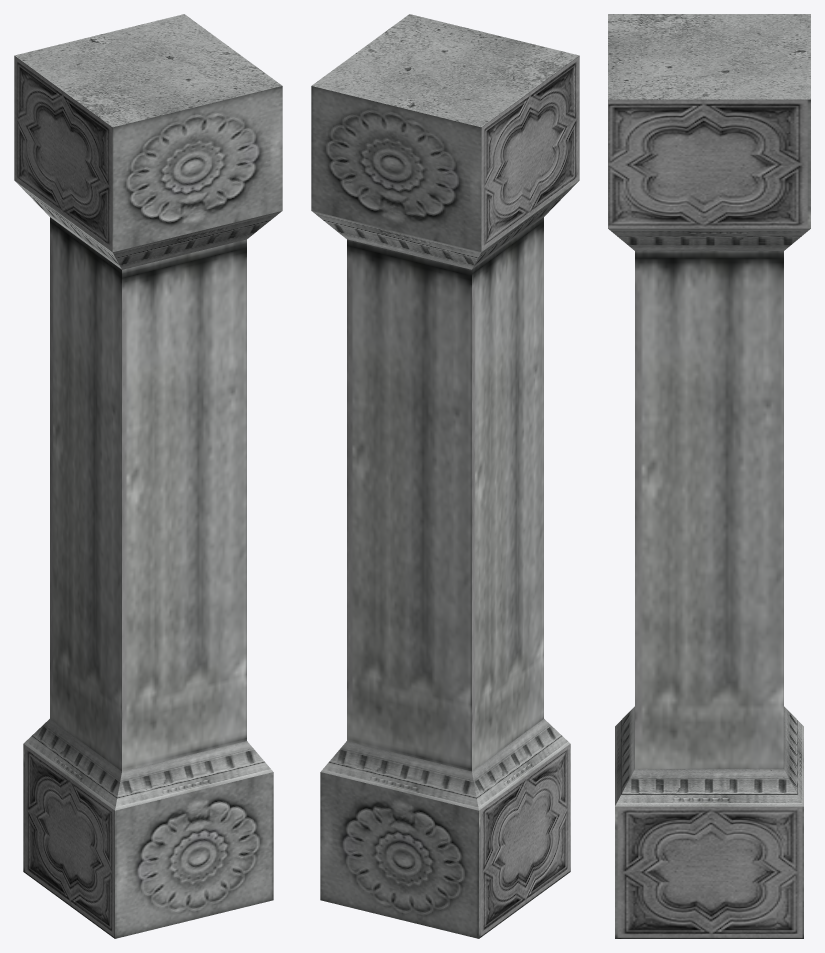
File: CarlosMelendez_Pillar.fbx
3 views of the same model, side by side, from view 1: azimuth 30°, elevation 25°; view 2: azimuth 150°, elevation 25°; view 3: azimuth 270°, elevation 25° (orthographic). The views are drawn at different scales.
Parts seen in each view (by area): view 1: pCube3; view 2: pCube3; view 3: pCube3.
Boxes of the visible parts, x1,y1,x2,y2 form: pCube3: [14, 14, 282, 938]; pCube3: [311, 14, 579, 938]; pCube3: [608, 14, 810, 938].
Bounding box in the file's own units: 0.6276 × 2.87 × 0.6276.
